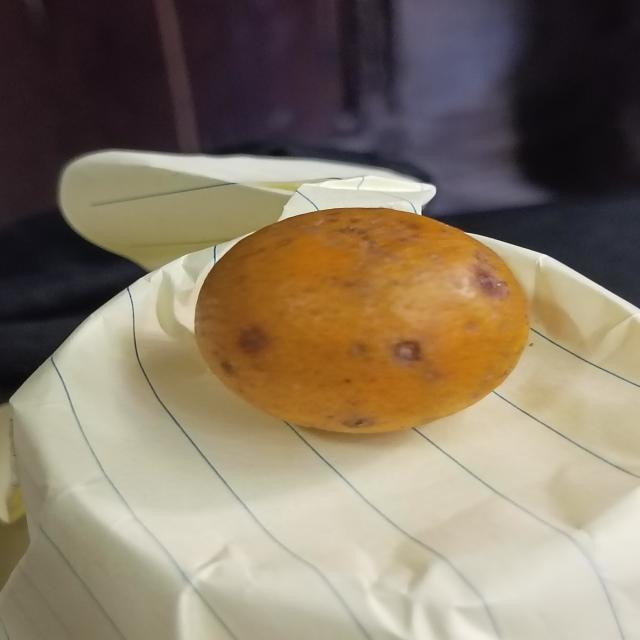black spot: (189, 203, 529, 439)
